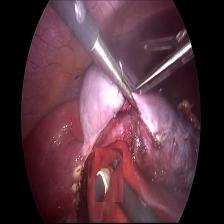Grasper: (138, 28, 194, 112), (91, 30, 139, 111)
Hook: (95, 148, 123, 202)
